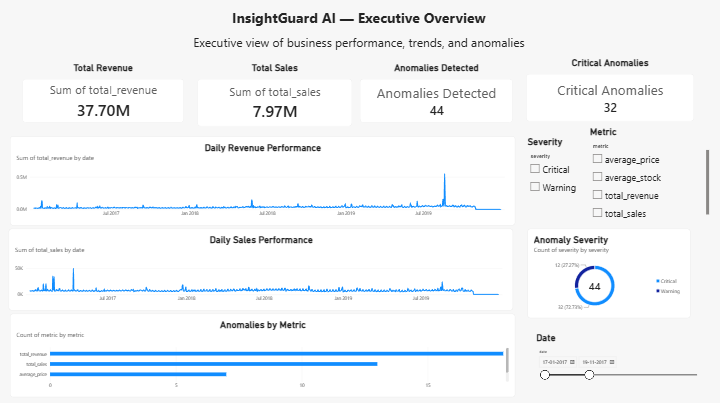

This screenshot's page, from the dashboard's own definition file:
{"tool":"powerbi","page":{"name":"Executive Overview","canvas":[1920,1080],"ordinal":0},"visuals":[{"type":"cardVisual","title":"Total Sales","fields":{"Data":["Sum(daily_kpis.total_sales)"]},"box":[525,167.5,412.5,170],"z":0},{"type":"cardVisual","title":"Total Revenue","fields":{"Data":["Sum(daily_kpis.total_revenue)","Sum(daily_kpis.total_revenue)"]},"box":[60,167.5,430,160],"z":1000},{"type":"cardVisual","title":"Anomalies Detected","fields":{"Data":["business_insights.Anomalies Detected"]},"box":[960,167.5,407.5,160],"z":2000},{"type":"cardVisual","title":"Critical Anomalies","fields":{"Data":["anomaly_report.Critical Anomalies"]},"box":[1402.5,152.5,447.5,170],"z":3000},{"type":"lineChart","title":"Daily Revenue Performance","fields":{"Category":["daily_kpis.date"],"Y":["Sum(daily_kpis.total_revenue)"]},"box":[25,362.5,1347.5,237.5],"z":4000},{"type":"lineChart","title":"Daily Sales Performance","fields":{"Category":["daily_kpis.date"],"Y":["Sum(daily_kpis.total_sales)"]},"box":[22.5,610,1345,217.5],"z":5000},{"type":"donutChart","title":"Anomaly Severity","fields":{"Category":["anomaly_report.severity"],"Y":["CountNonNull(anomaly_report.severity)"]},"box":[1407.5,610,434,238],"z":6000},{"type":"clusteredBarChart","title":"Anomalies by Metric","fields":{"Category":["anomaly_report.metric"],"Y":["CountNonNull(anomaly_report.metric)"]},"box":[25,837.5,1347.5,222.5],"z":7000},{"type":"slicer","title":"Severity","fields":{"Values":["anomaly_report.severity"]},"box":[1407.5,362.5,165,177.5],"z":8000},{"type":"slicer","title":"Metric","fields":{"Values":["anomaly_report.metric"]},"box":[1572.5,337.5,317.5,247.5],"z":9000},{"type":"slicer","title":"Date","fields":{"Values":["anomaly_report.date"]},"box":[1430,887.5,447.5,172.5],"z":10000},{"type":"textbox","box":[22.5,20,1867.5,70],"z":11000},{"type":"textbox","box":[22.5,90,1867.5,62.5],"z":12000}]}

Visuals, with their boxes in screenshot pixels (x1, y1, x2, y2), scaled from the page's 1920x1080 canvas onto the 720x403 screenshot:
"Total Sales" cardVisual: pyautogui.locateOnScreen(197, 63, 352, 126)
"Total Revenue" cardVisual: pyautogui.locateOnScreen(22, 63, 184, 122)
"Anomalies Detected" cardVisual: pyautogui.locateOnScreen(360, 63, 513, 122)
"Critical Anomalies" cardVisual: pyautogui.locateOnScreen(526, 57, 694, 120)
"Daily Revenue Performance" lineChart: pyautogui.locateOnScreen(9, 135, 515, 224)
"Daily Sales Performance" lineChart: pyautogui.locateOnScreen(8, 228, 513, 309)
"Anomaly Severity" donutChart: pyautogui.locateOnScreen(528, 228, 691, 316)
"Anomalies by Metric" clusteredBarChart: pyautogui.locateOnScreen(9, 313, 515, 396)
"Severity" slicer: pyautogui.locateOnScreen(528, 135, 590, 202)
"Metric" slicer: pyautogui.locateOnScreen(590, 126, 709, 218)
"Date" slicer: pyautogui.locateOnScreen(536, 331, 704, 396)
textbox: pyautogui.locateOnScreen(8, 7, 709, 34)
textbox: pyautogui.locateOnScreen(8, 34, 709, 57)
